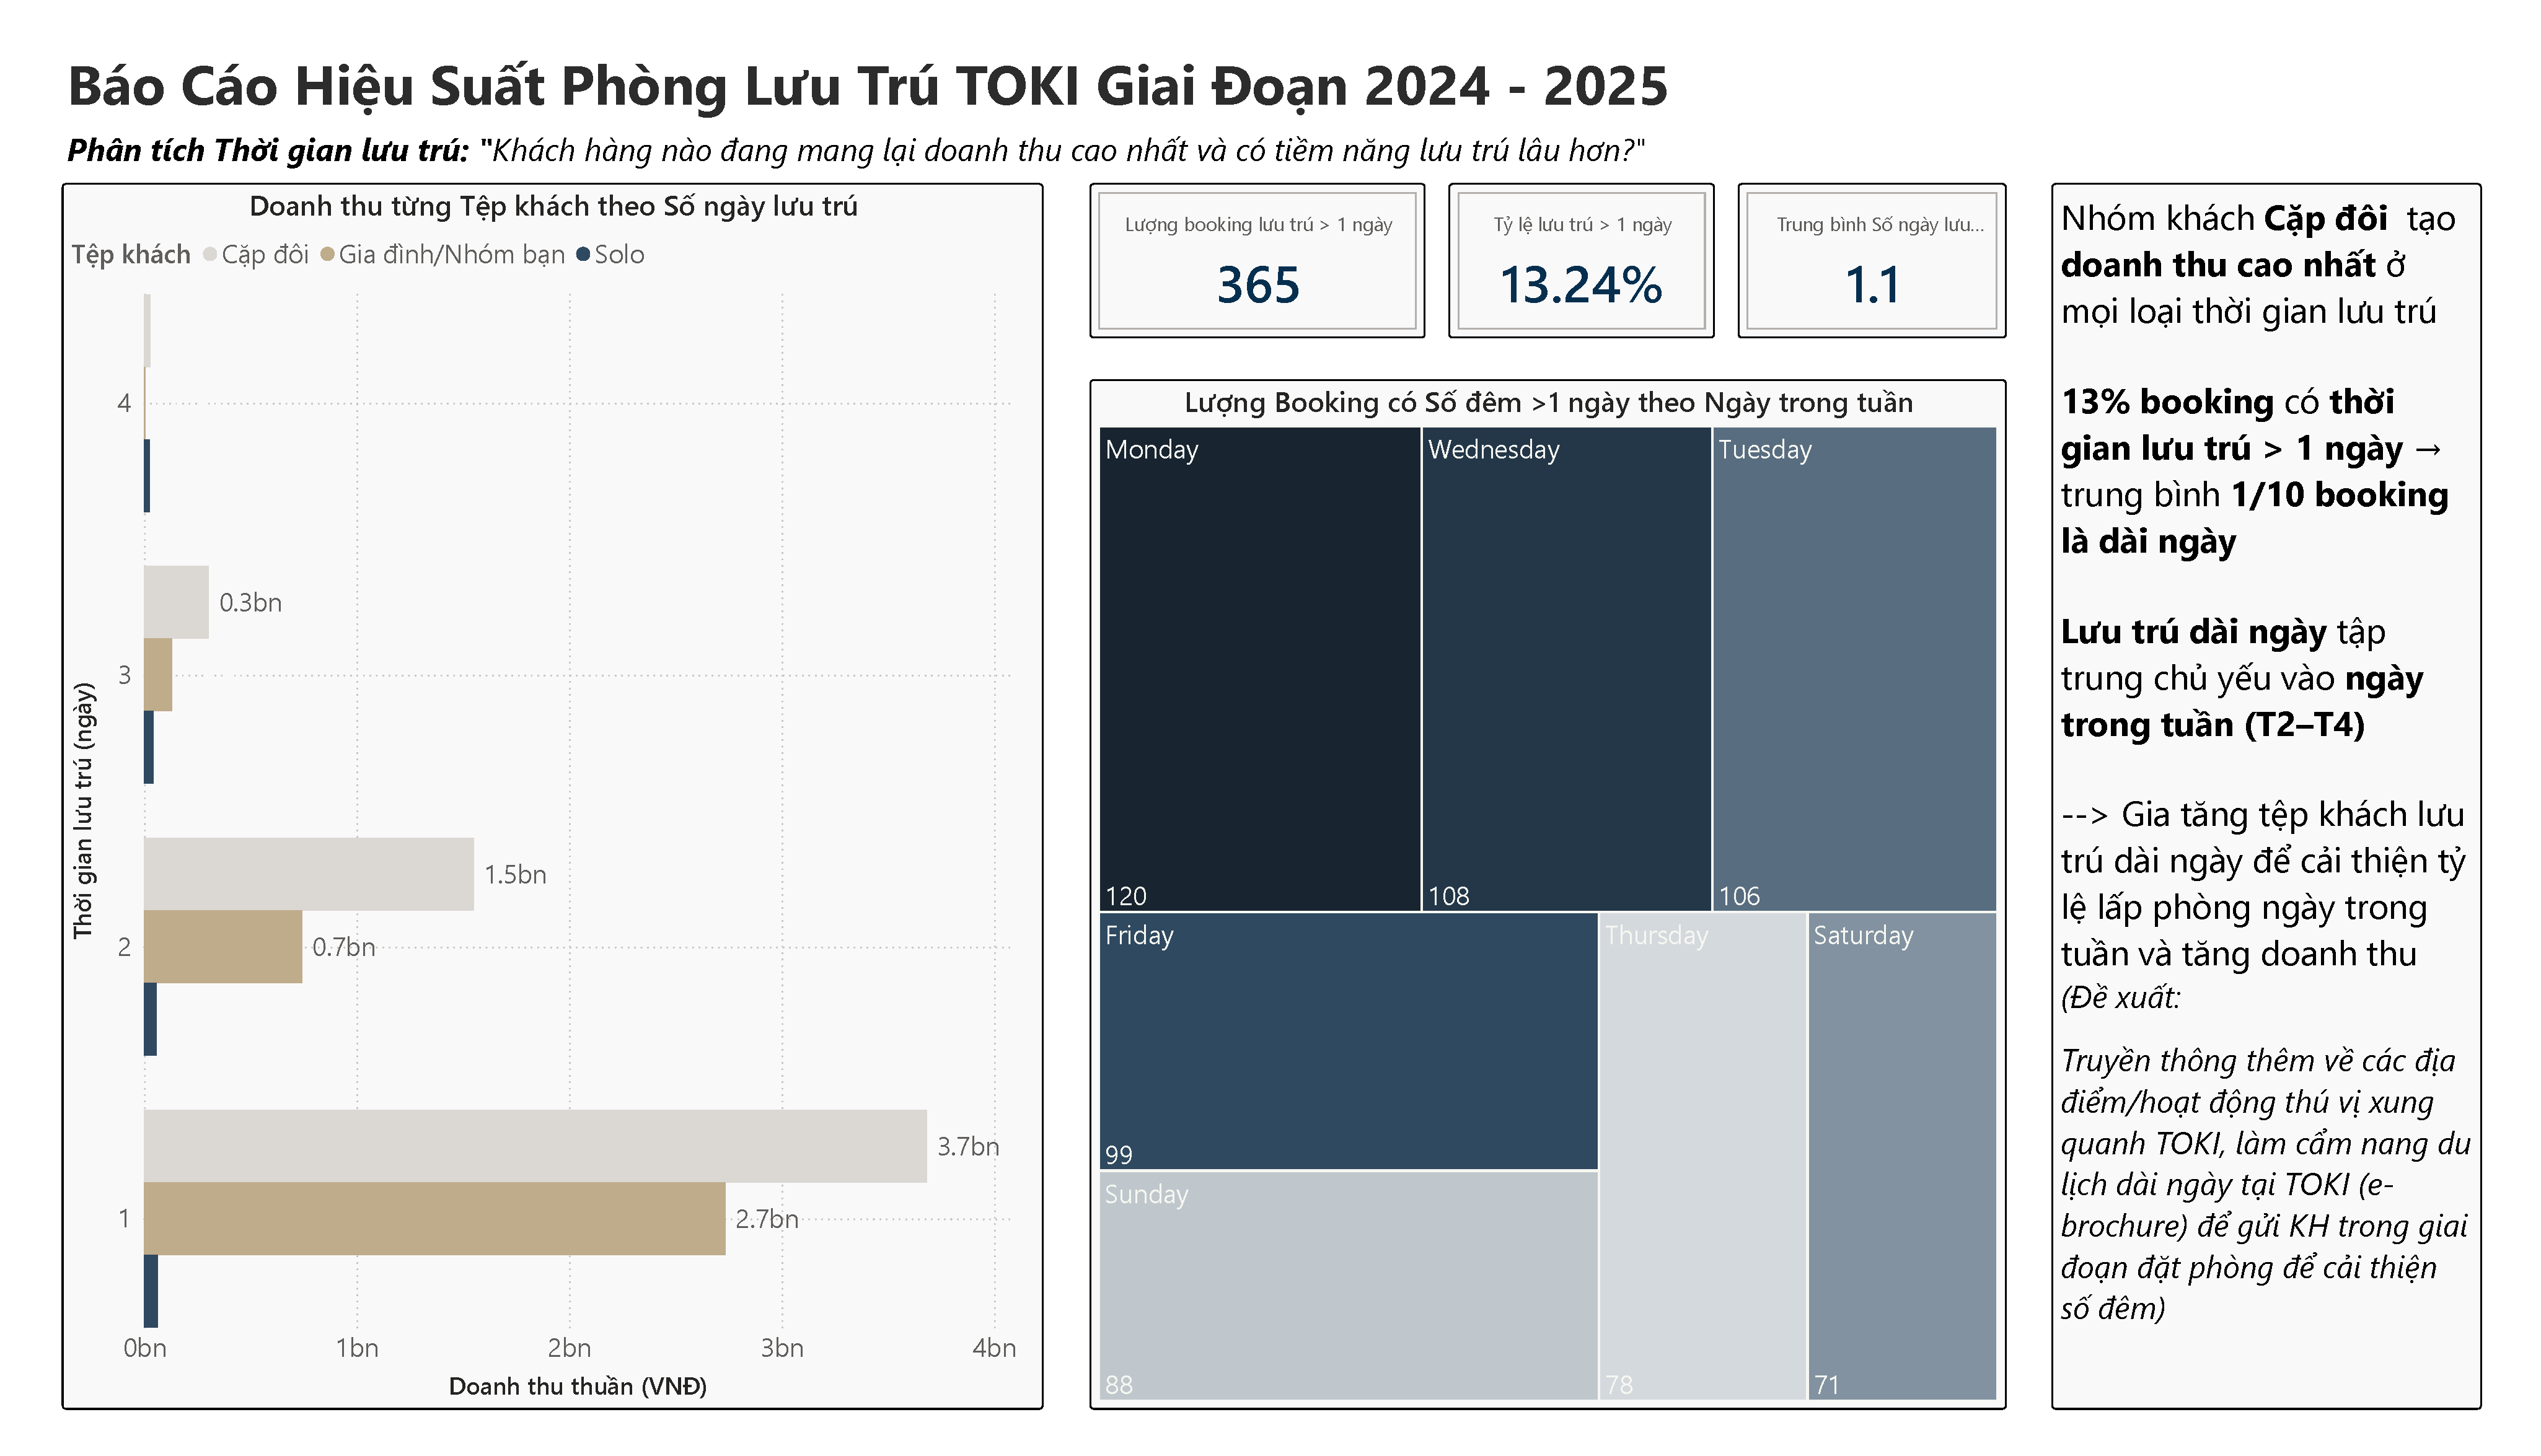

What the dashboard file says about the page in this screenshot:
{"tool":"powerbi","page":{"name":"Avg Lenght of Stay","canvas":[1920,1080],"ordinal":3},"visuals":[{"type":"textbox","box":[23,6,1390,68],"z":0},{"type":"textbox","box":[1565,117.5,332.5,950],"z":1000},{"type":"clusteredBarChart","title":"Doanh thu từng Tệp khách theo Số ngày lưu trú","fields":{"Category":["TOKI - Merged - Backup.Thời gian ở"],"Y":["Sum(TOKI - Merged - Backup.Doanh thu thuần)"],"Series":["TOKI - Merged - Backup.Tệp khách"]},"box":[24,118,760,950],"z":2000},{"type":"cardVisual","fields":{"Data":["Avg(TOKI - Merged - Backup.Thời gian ở)"]},"box":[1322,118,208,120],"z":3000},{"type":"treemap","title":"Lượng Booking có Số đêm >1 ngày theo Ngày trong tuần","fields":{"Group":["TOKI - Merged - Backup.Tên ngày đến"],"Values":["Count(TOKI - Merged - Backup.ID)"]},"box":[820,270,710,798],"z":4000},{"type":"textbox","box":[22.5,70,1637.5,47.5],"z":5000},{"type":"cardVisual","fields":{"Data":["_Measures.Tỷ lệ Booking lưu trú > 1 ngày"]},"box":[1098,118,206,120],"z":6000},{"type":"cardVisual","fields":{"Data":["Count(TOKI - Merged - Backup.ID)"]},"box":[820,118,260,120],"z":7000}]}

Visuals, with their boxes in screenshot pixels (x1, y1, x2, y2):
textbox: bbox=(61, 38, 1856, 126)
textbox: bbox=(2051, 183, 2481, 1409)
"Doanh thu từng Tệp khách theo Số ngày lưu trú" clusteredBarChart: bbox=(62, 183, 1043, 1410)
cardVisual - Avg(TOKI - Merged - Backup.Thời gian ở): bbox=(1738, 183, 2007, 338)
"Lượng Booking có Số đêm >1 ngày theo Ngày trong tuần" treemap: bbox=(1090, 379, 2007, 1410)
textbox: bbox=(60, 121, 2174, 183)
cardVisual - _Measures.Tỷ lệ Booking lưu trú > 1 ngày: bbox=(1449, 183, 1715, 338)
cardVisual - Count(TOKI - Merged - Backup.ID): bbox=(1090, 183, 1425, 338)
